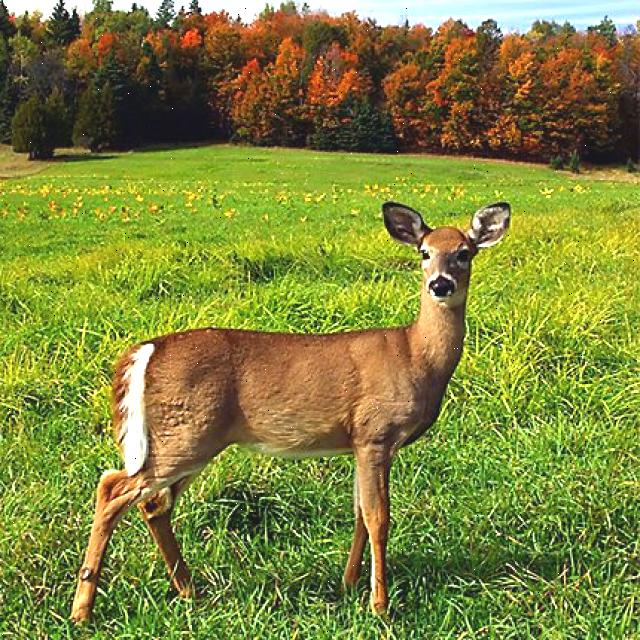deer: (361, 189, 510, 371)
